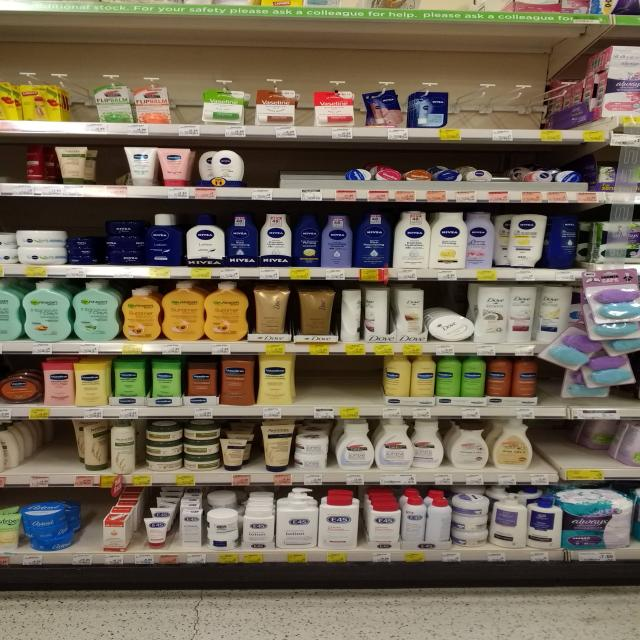void: (453, 85, 502, 140), (338, 354, 378, 418), (297, 354, 335, 419), (68, 493, 100, 565), (28, 422, 62, 488), (546, 90, 589, 142), (505, 89, 545, 142), (174, 62, 202, 137), (308, 148, 345, 201), (544, 420, 576, 480), (580, 421, 612, 481), (91, 138, 122, 198), (250, 144, 278, 202), (278, 147, 308, 200)
